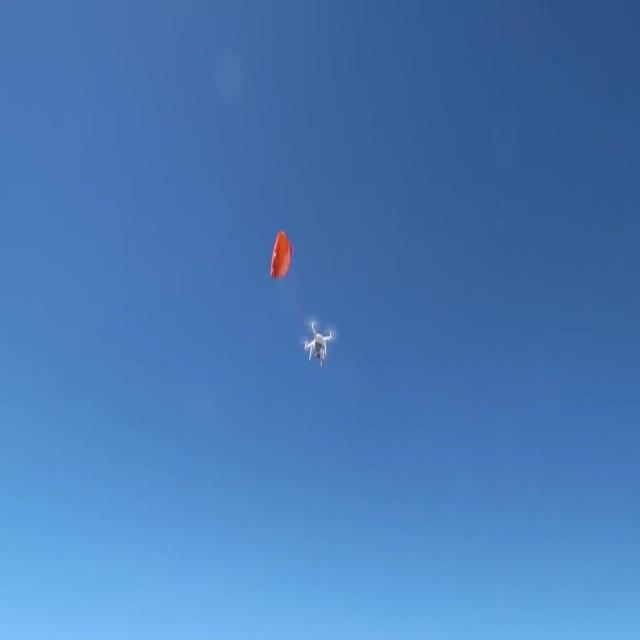UAV: (304, 322, 332, 367)
